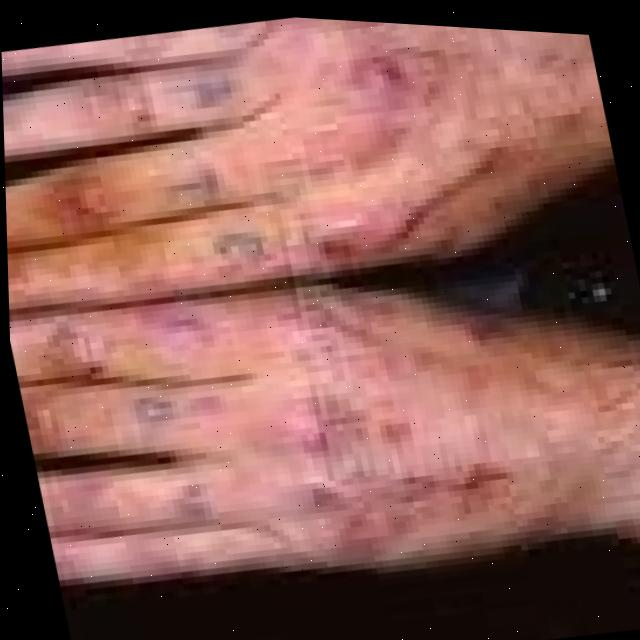Melasma: (271, 271, 497, 563), (258, 15, 433, 263)
